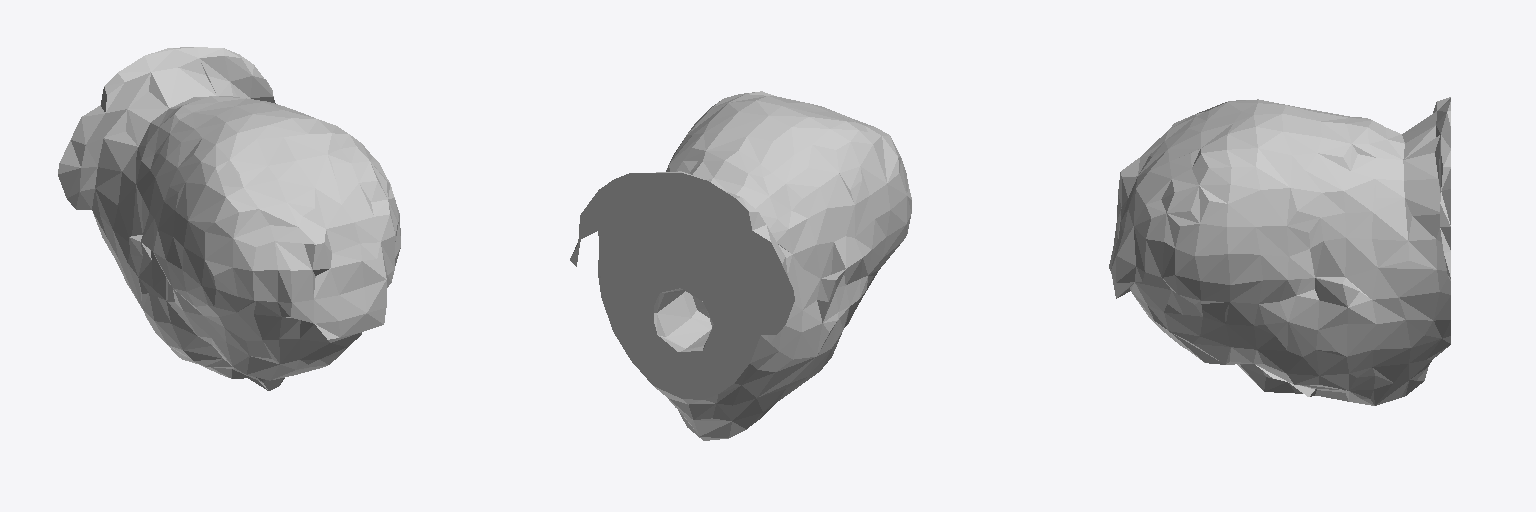
Rendered from 49316-face_Clustering_90pct.obj.
3 renders of one model, left to right at view 1: azimuth 30°, elevation 25°; view 2: azimuth 150°, elevation 25°; view 3: azimuth 270°, elevation 25°, orthographic.
Bounding box in the file's own units: 0.7315 × 0.9029 × 0.962.